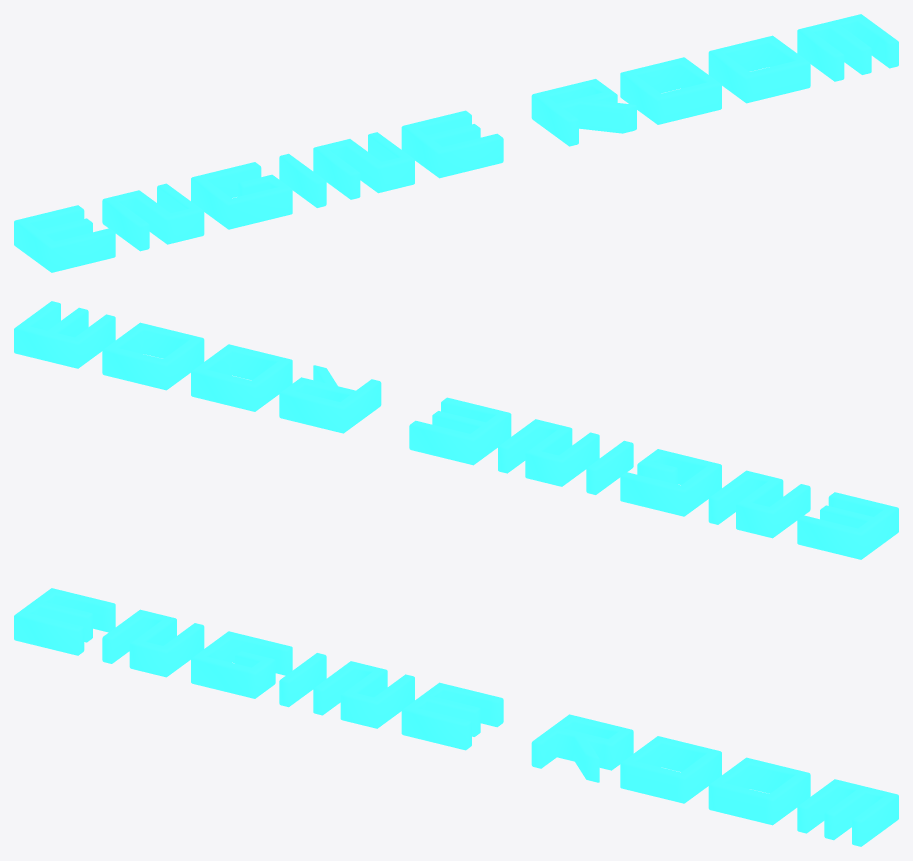
File: FACILITY_ENGINESLabel.fbx
3 renders of one model, top to bottom at view 1: azimuth 30°, elevation 25°; view 2: azimuth 150°, elevation 25°; view 3: azimuth 330°, elevation 25°, orthographic.
Visible parts, largest first — view 1: LAB-LABEL.004; view 2: LAB-LABEL.004; view 3: LAB-LABEL.004.
Part boxes in pixels (<box>): LAB-LABEL.004: <box>14,14,898,272</box>; LAB-LABEL.004: <box>14,301,898,559</box>; LAB-LABEL.004: <box>14,588,898,846</box>.
Size of the model in its own units: 1046 by 32 by 79.68.
